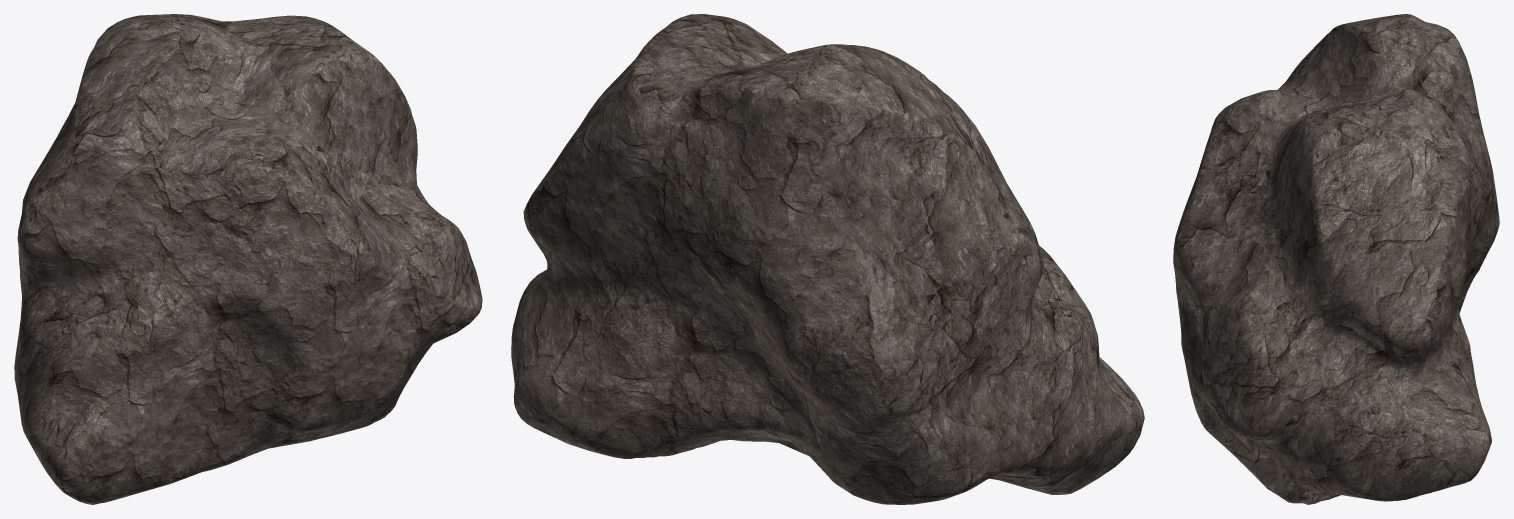
The model's file is cascajo_rock_7.glb.
3 views of the same model, side by side, from view 1: azimuth 30°, elevation 25°; view 2: azimuth 150°, elevation 25°; view 3: azimuth 270°, elevation 25° (orthographic). The views are drawn at different scales.
Parts seen in each view (by area): view 1: rock_7; view 2: rock_7; view 3: rock_7.
Part boxes in pixels (x1,y1,x2,y2): rock_7: (14,14,482,504); rock_7: (511,14,1144,504); rock_7: (1173,14,1499,504).
Size of the model in its own units: 1 by 0.8237 by 0.6146.
Materials: 1 (1 with a texture image).
